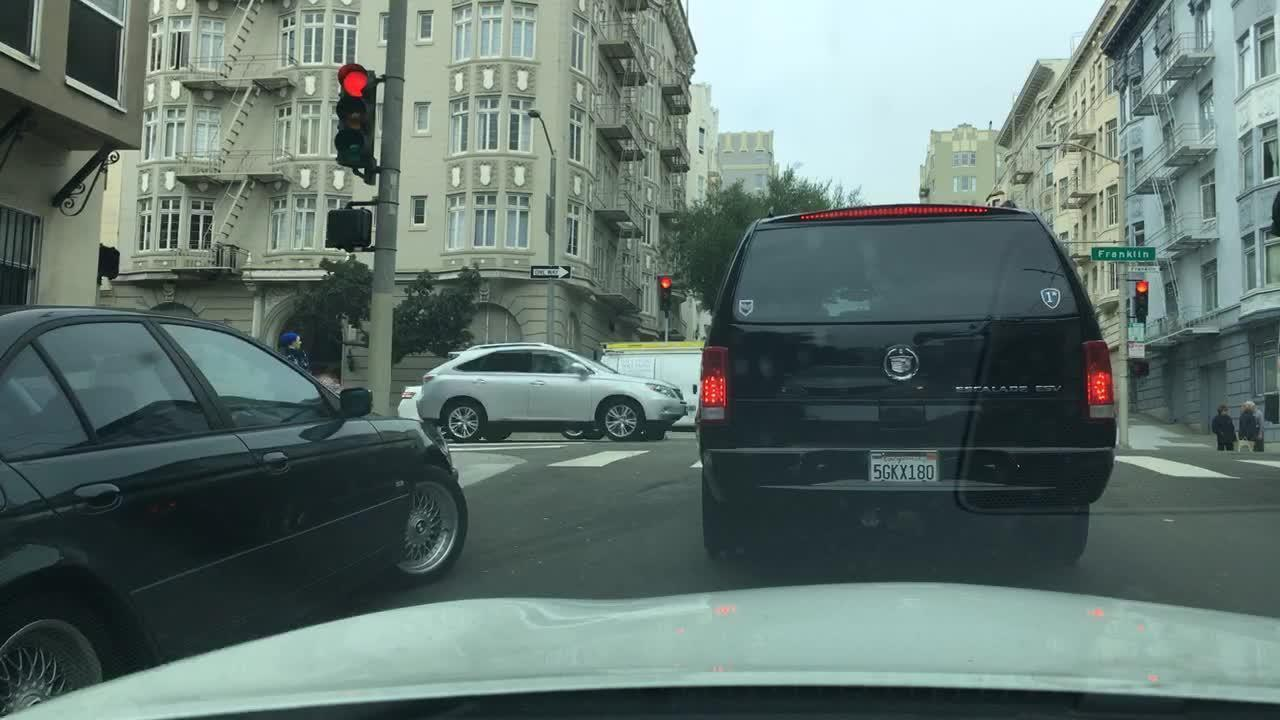cadillac: (872, 343, 931, 389)
